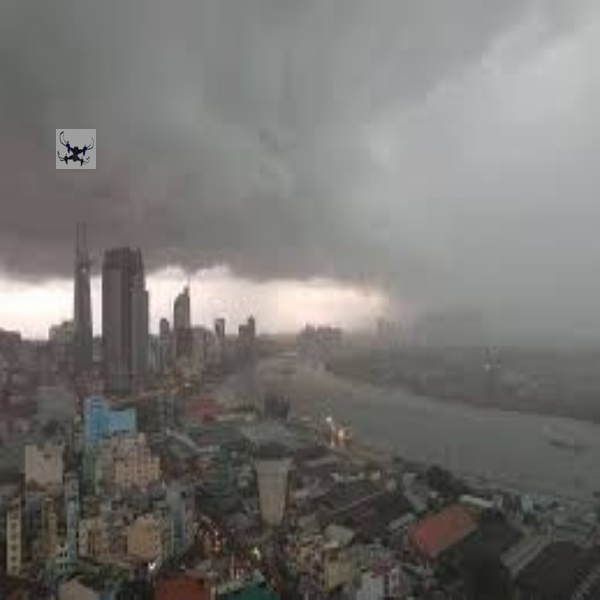drone: (56, 123, 97, 174)
